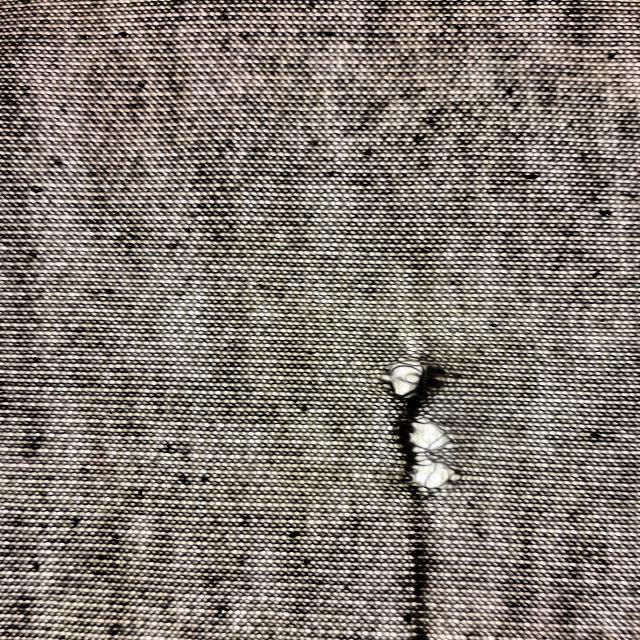cut: (371, 355, 459, 406), (386, 410, 464, 453), (395, 453, 467, 496)
